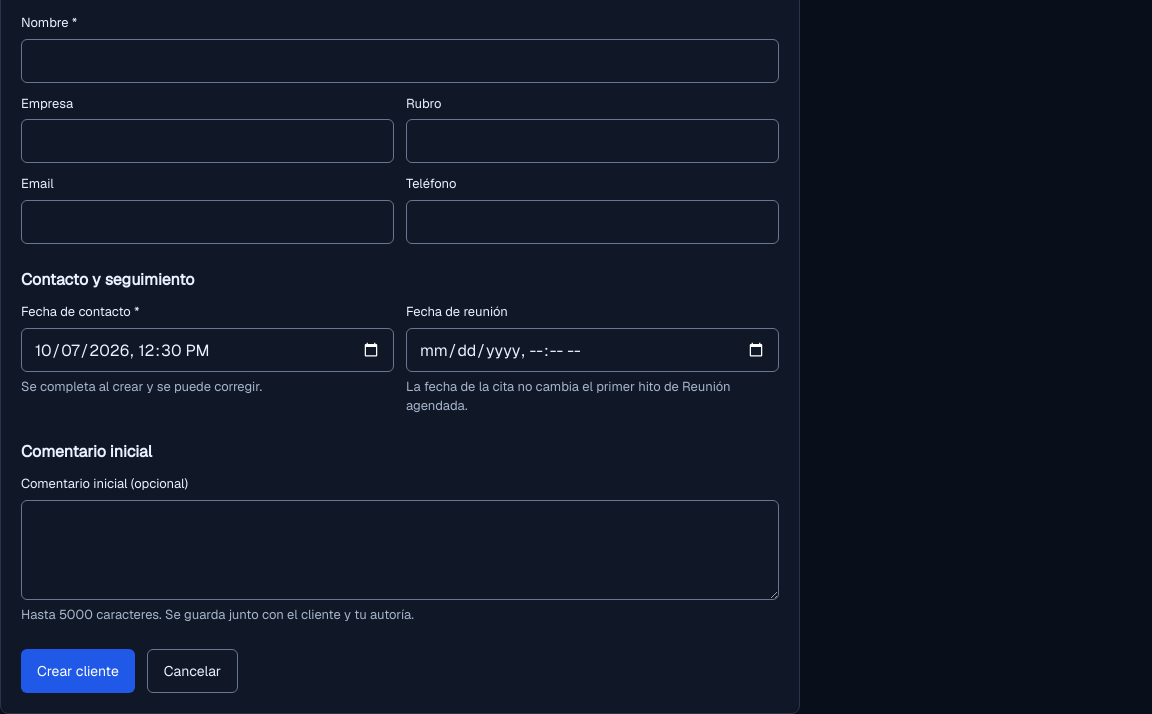
it: approved client form interaction › does not navigate an unconfirmed invalid outcome
The width and height of the screenshot is (1152, 714).
(page scrolled)
Click the button "Crear cliente".
click(78, 671)  # box [21,649,135,693]
(page scrolled)
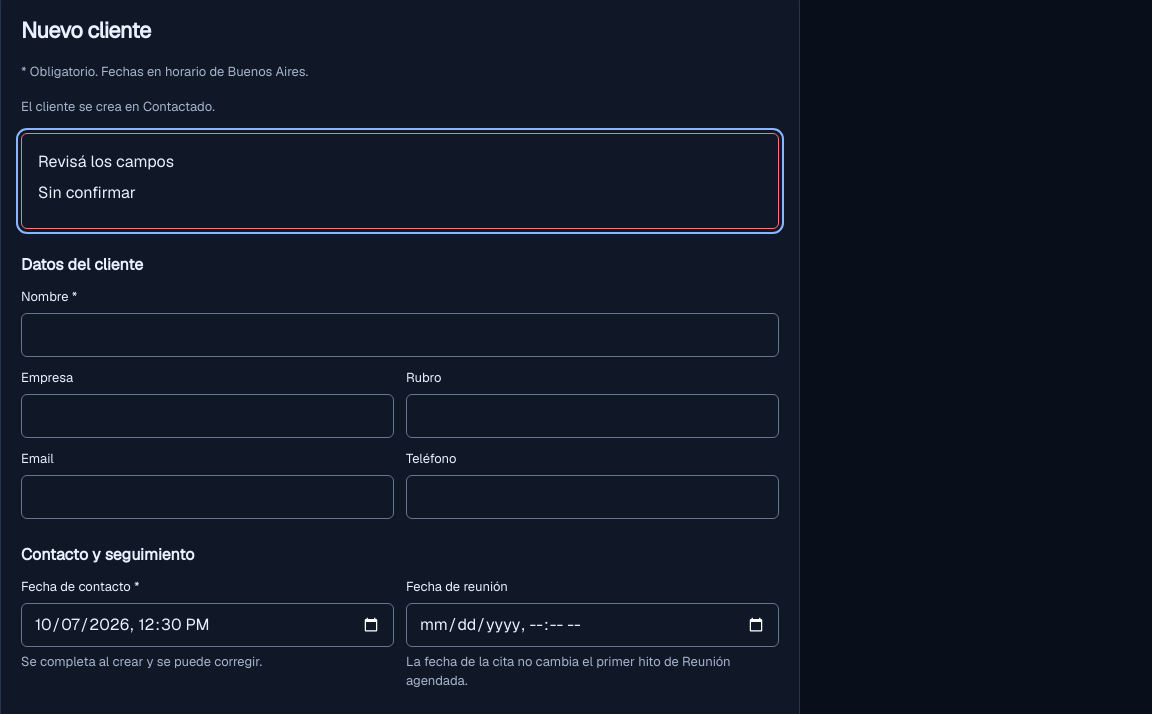
Result: the message "Revisá los campos Sin confirmar" is shown at [21,133,779,229]
